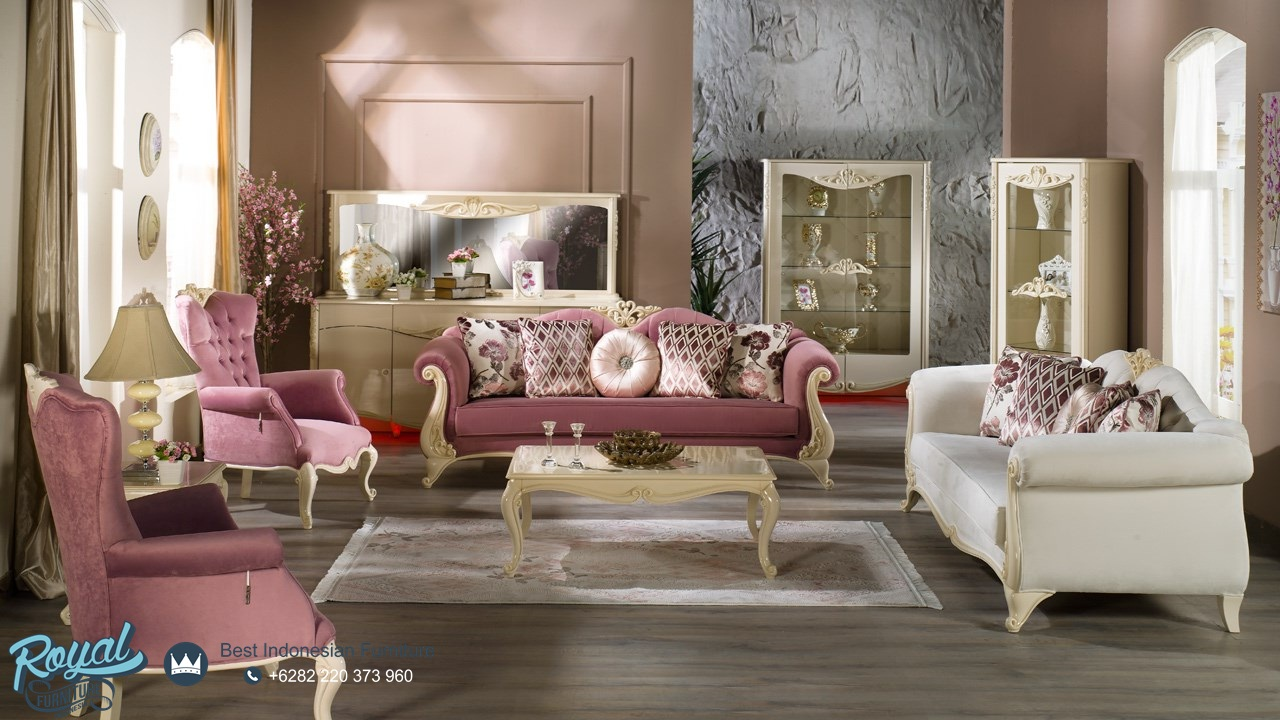bantal: (1007, 351, 1086, 434), (525, 313, 599, 396), (653, 323, 719, 398), (727, 322, 785, 404), (473, 319, 522, 400)
buku: (433, 272, 490, 302)
gelas: (539, 419, 558, 466), (570, 419, 584, 471)
kursi: (33, 374, 328, 716)
meja: (502, 440, 789, 580)
sova: (884, 336, 1265, 646), (411, 314, 839, 488), (171, 278, 389, 509), (83, 303, 208, 470)
tanaman: (234, 172, 305, 350), (694, 147, 746, 315)
